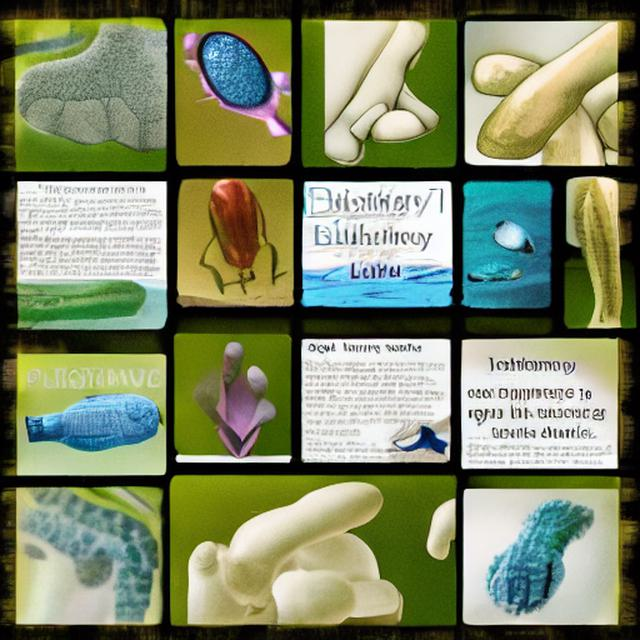Graph: (325, 212, 410, 262)
